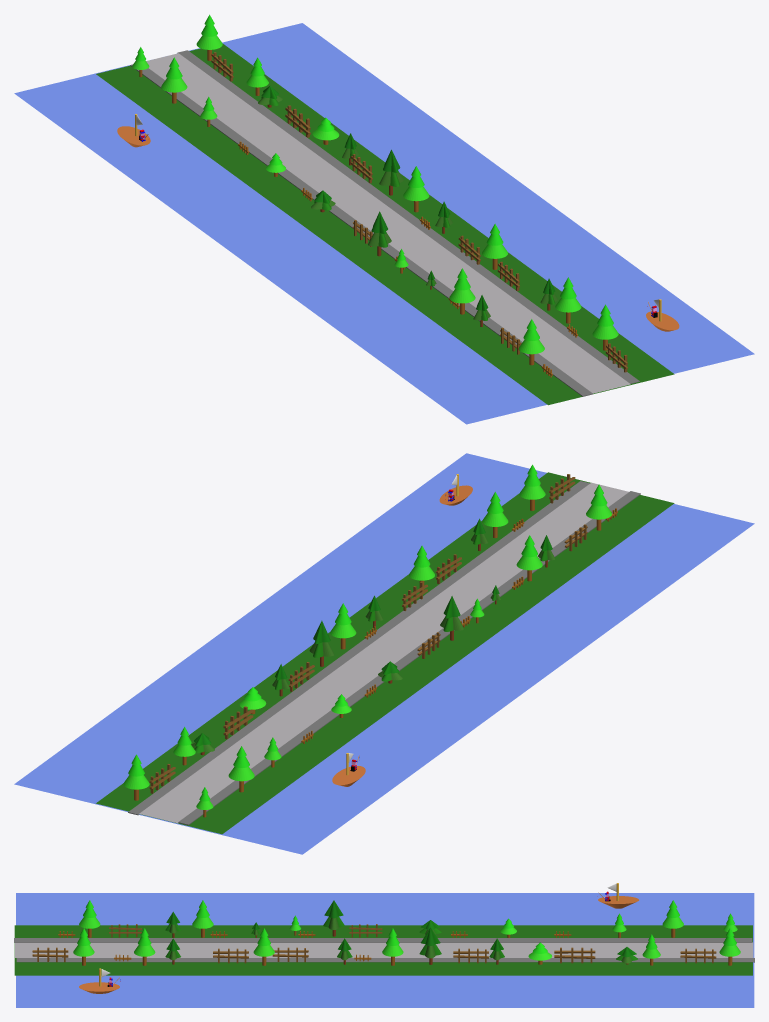
File: camino.fbx
The picture shows the model from 3 angles, top to bottom: view 1: azimuth 30°, elevation 25°; view 2: azimuth 150°, elevation 25°; view 3: azimuth 270°, elevation 25°; orthographic projection. The views are drawn at different scales.
Parts seen in each view (by area): view 1: Cono.009; view 2: Cono.009; view 3: Cono.009.
Part boxes in pixels (x1,y1,x2,y2): Cono.009: (14,14,754,424); Cono.009: (14,453,754,854); Cono.009: (14,883,754,1007).
Size of the model in its own units: 5895 by 1016 by 16064.
